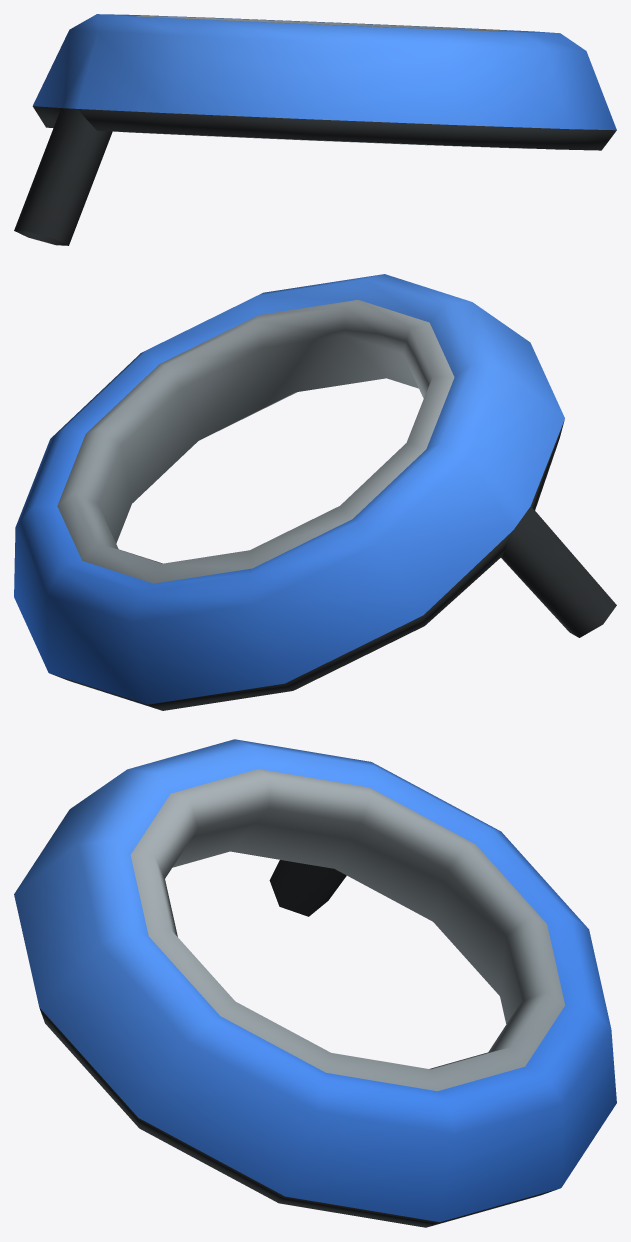
File: drone_3_002.fbx
3 views of the same model, one above another, from view 1: azimuth 30°, elevation 25°; view 2: azimuth 150°, elevation 25°; view 3: azimuth 270°, elevation 25° (orthographic). The views are drawn at different scales.
Parts seen in each view (by area): view 1: drone_3_002; view 2: drone_3_002; view 3: drone_3_002.
Part boxes in pixels (bbox=[...]): drone_3_002: bbox=[14, 14, 616, 245]; drone_3_002: bbox=[14, 274, 616, 710]; drone_3_002: bbox=[14, 739, 616, 1227].
Size of the model in its own units: 173 by 148 by 85.97.
